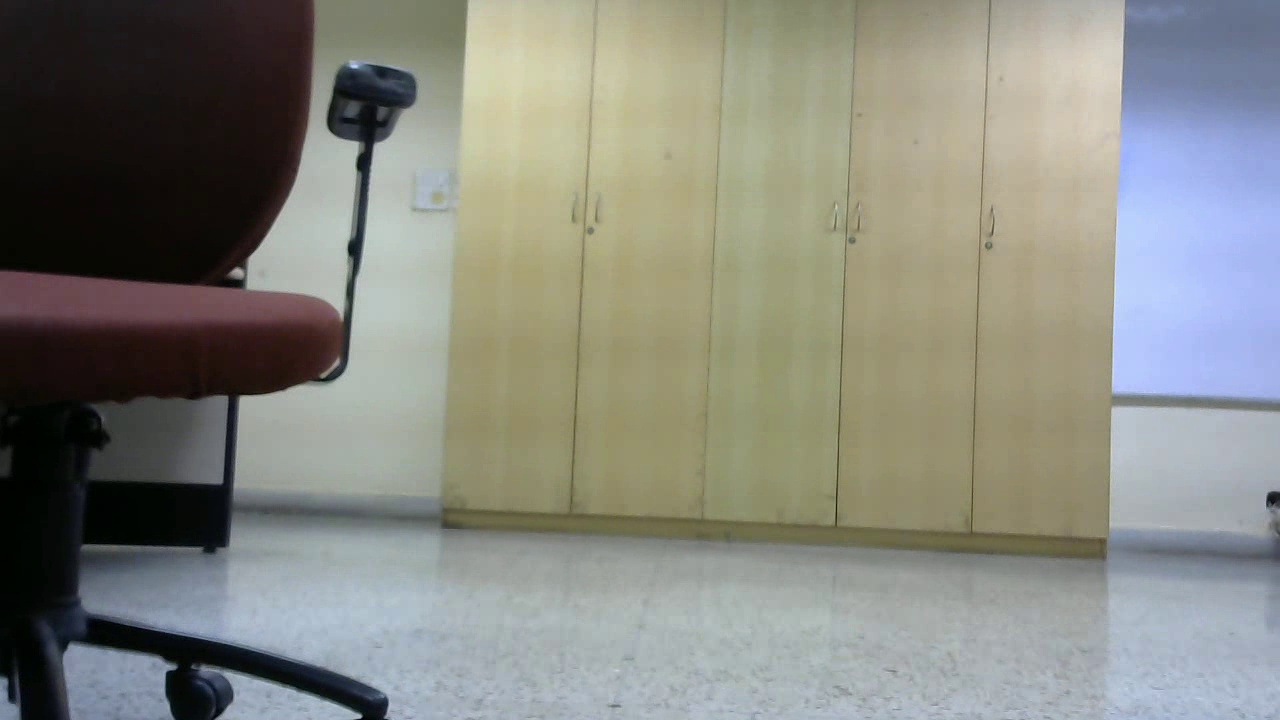chair: (713, 175, 1053, 612), (290, 148, 501, 541)
